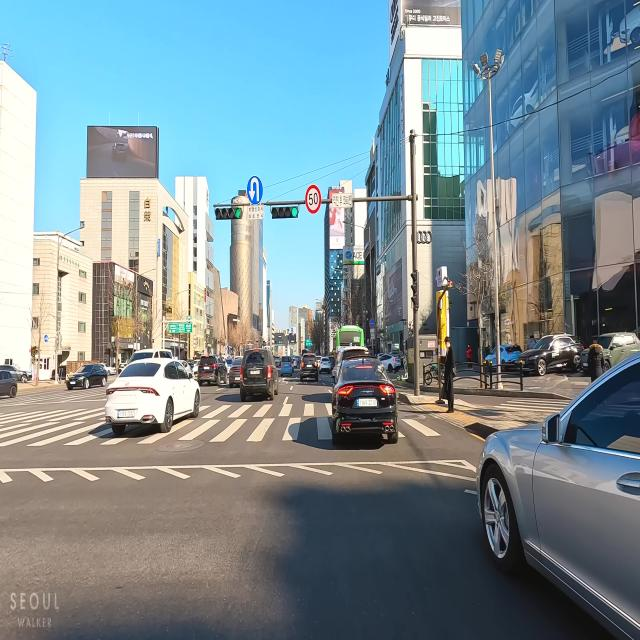Green Light: (234, 208, 242, 220), (290, 208, 298, 220)
